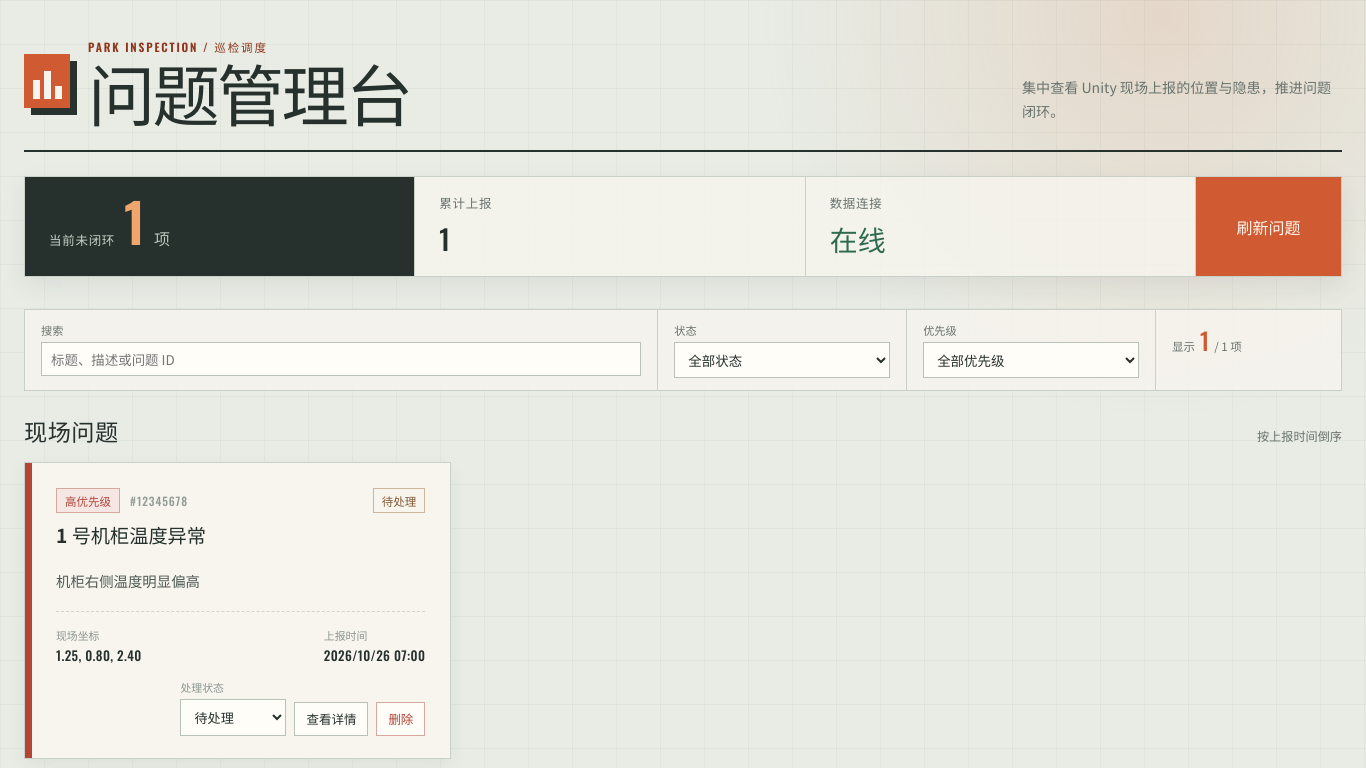
Test: App › opens issue details
Expected: the heading "1 号机柜温度异常" is shown, left=56, top=522, right=206, bottom=550
Click the button "查看详情" at (331, 719), box left=294, top=702, right=368, bottom=736
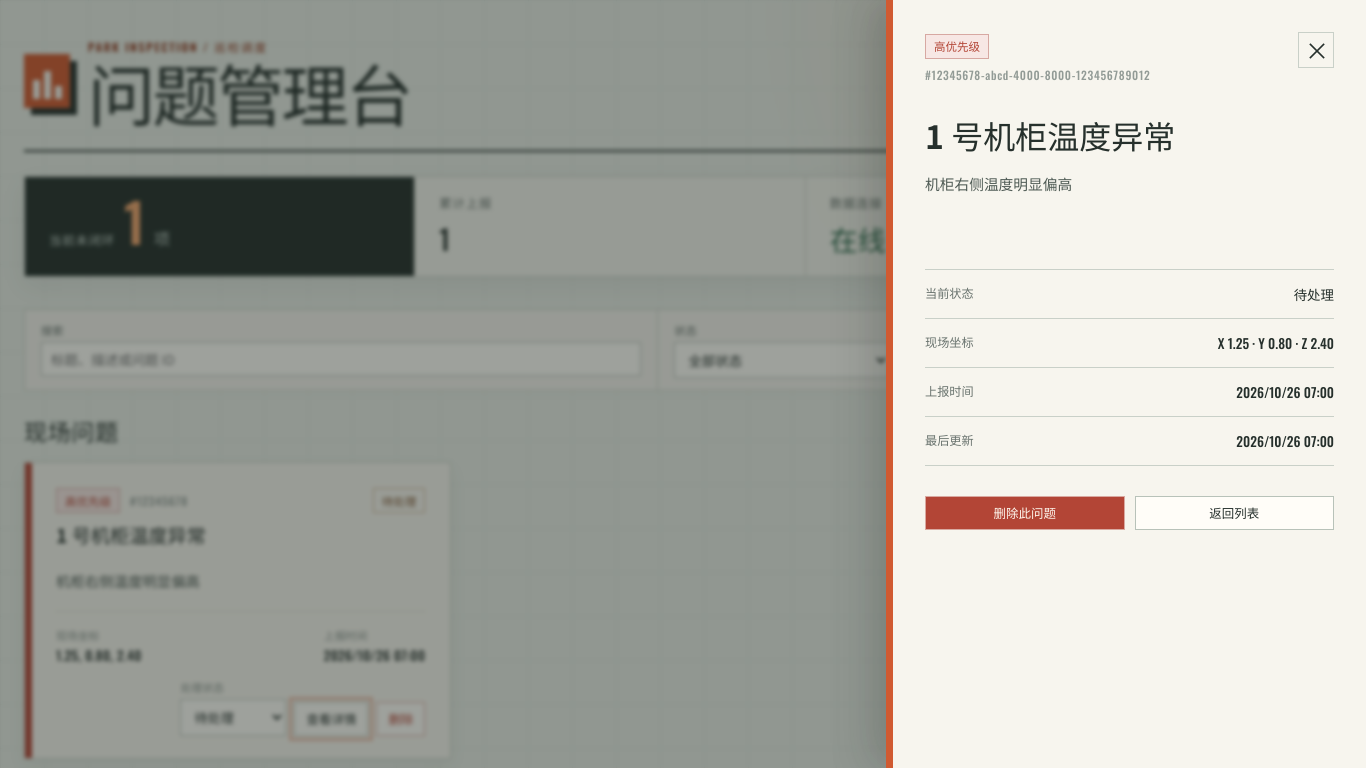
Now the dialog "1 号机柜温度异常" is shown, box left=886, top=0, right=1365, bottom=767
Now the text "最后更新" is shown, box left=925, top=431, right=974, bottom=451
Press Escape
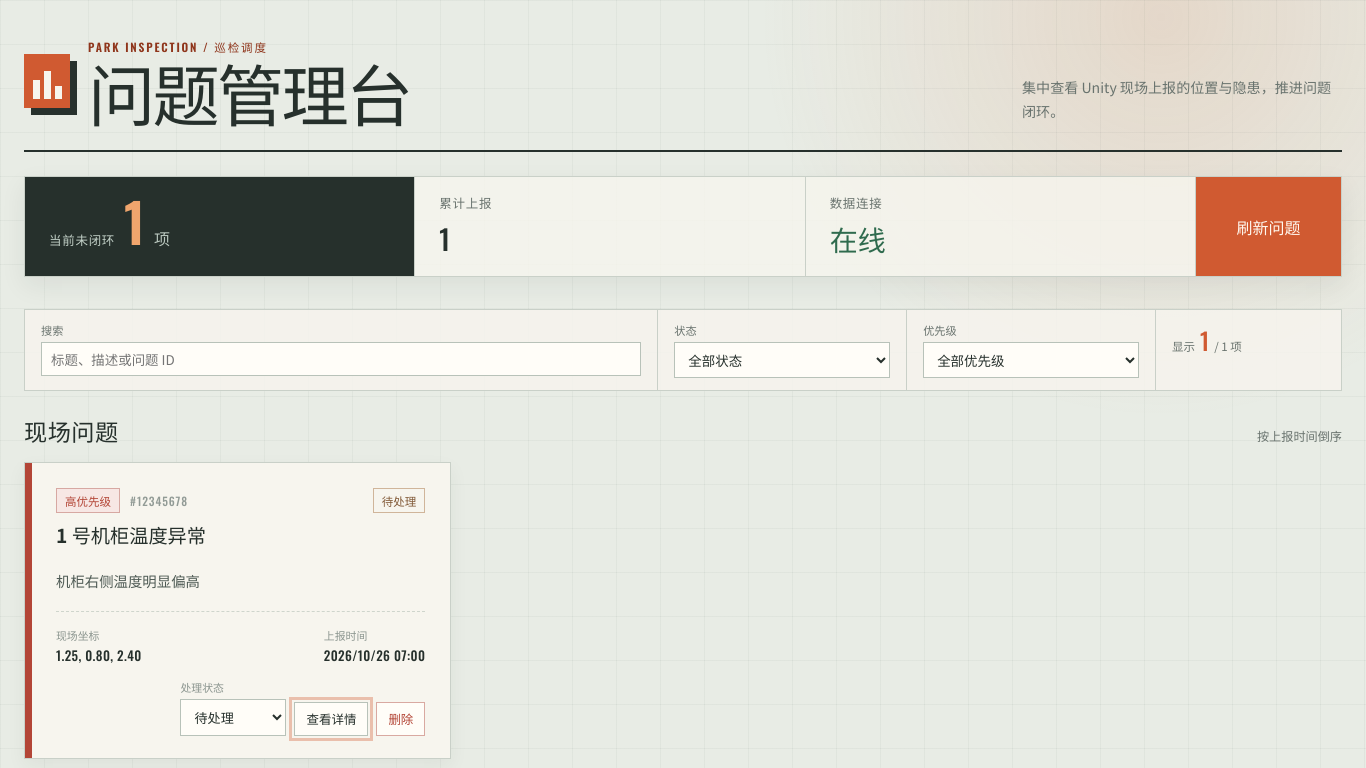
Now the dialog is gone
